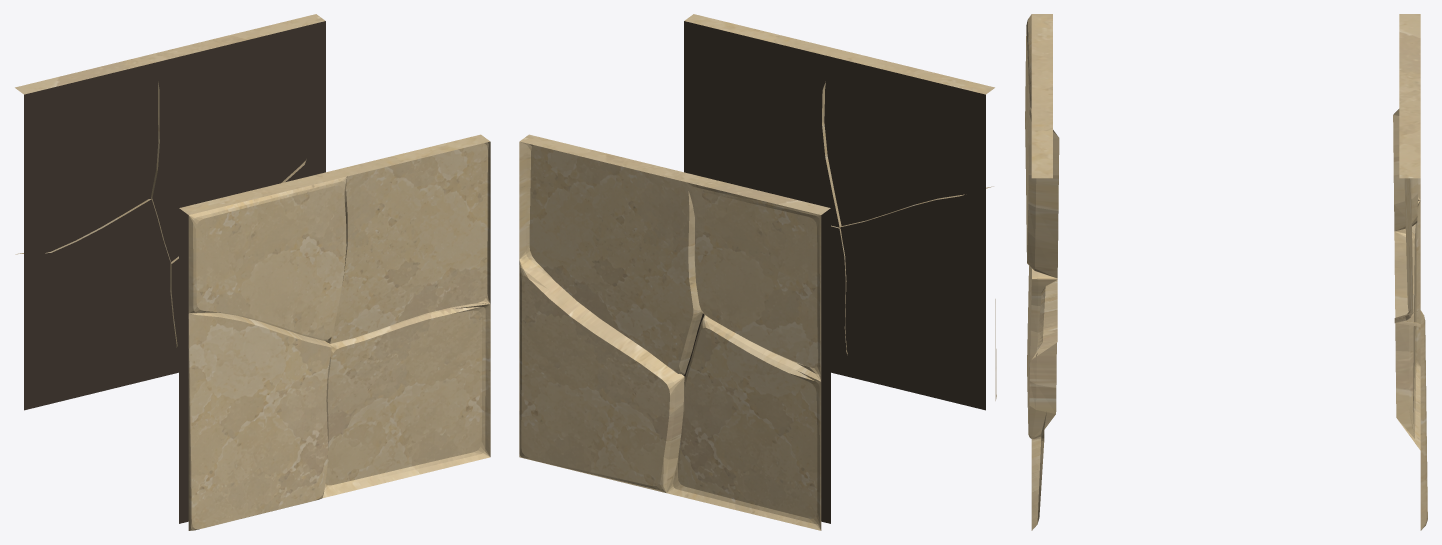
Rendered from ground_square_strip_04.glb.
3 renders of one model, left to right at view 1: azimuth 30°, elevation 25°; view 2: azimuth 150°, elevation 25°; view 3: azimuth 270°, elevation 25°, orthographic. The views are drawn at different scales.
Parts seen in each view (by area): view 1: GroundSquareStrip04_Body; view 2: GroundSquareStrip04_Body; view 3: GroundSquareStrip04_Body.
Boxes of the visible parts, x1=… form: GroundSquareStrip04_Body: x1=15, y1=14, x2=490, y2=530; GroundSquareStrip04_Body: x1=519, y1=14, x2=996, y2=530; GroundSquareStrip04_Body: x1=1025, y1=14, x2=1427, y2=530.
Bounding box in the file's own units: 1 × 1 × 1.04.
Materials: 10 (9 with a texture image).
